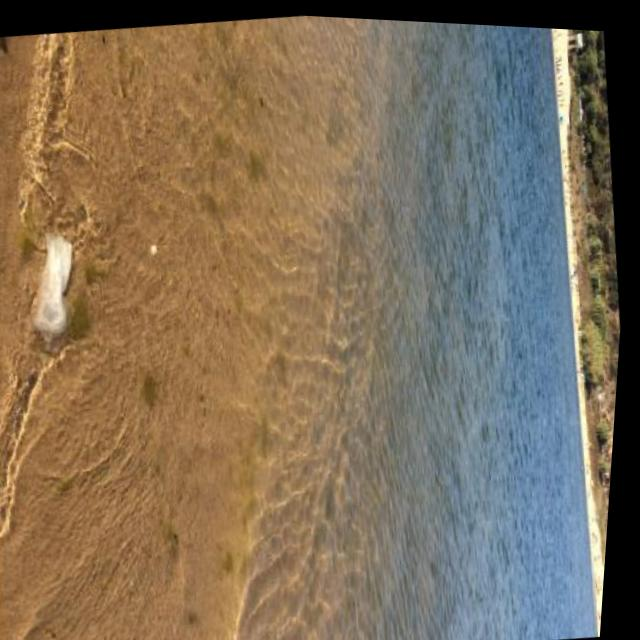plastic: (12, 227, 84, 359)
